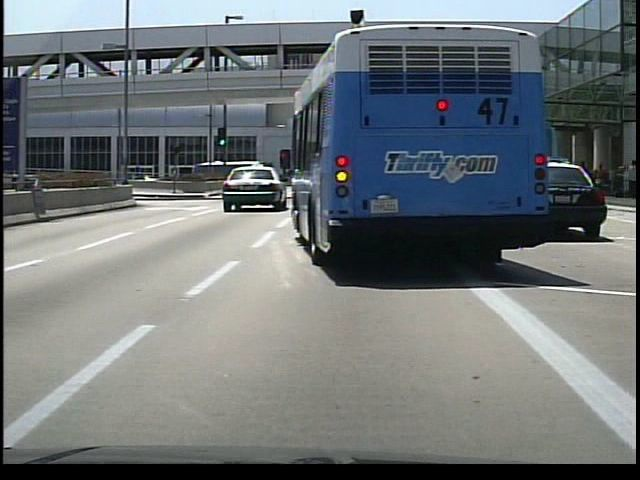person: (596, 163, 609, 198)
